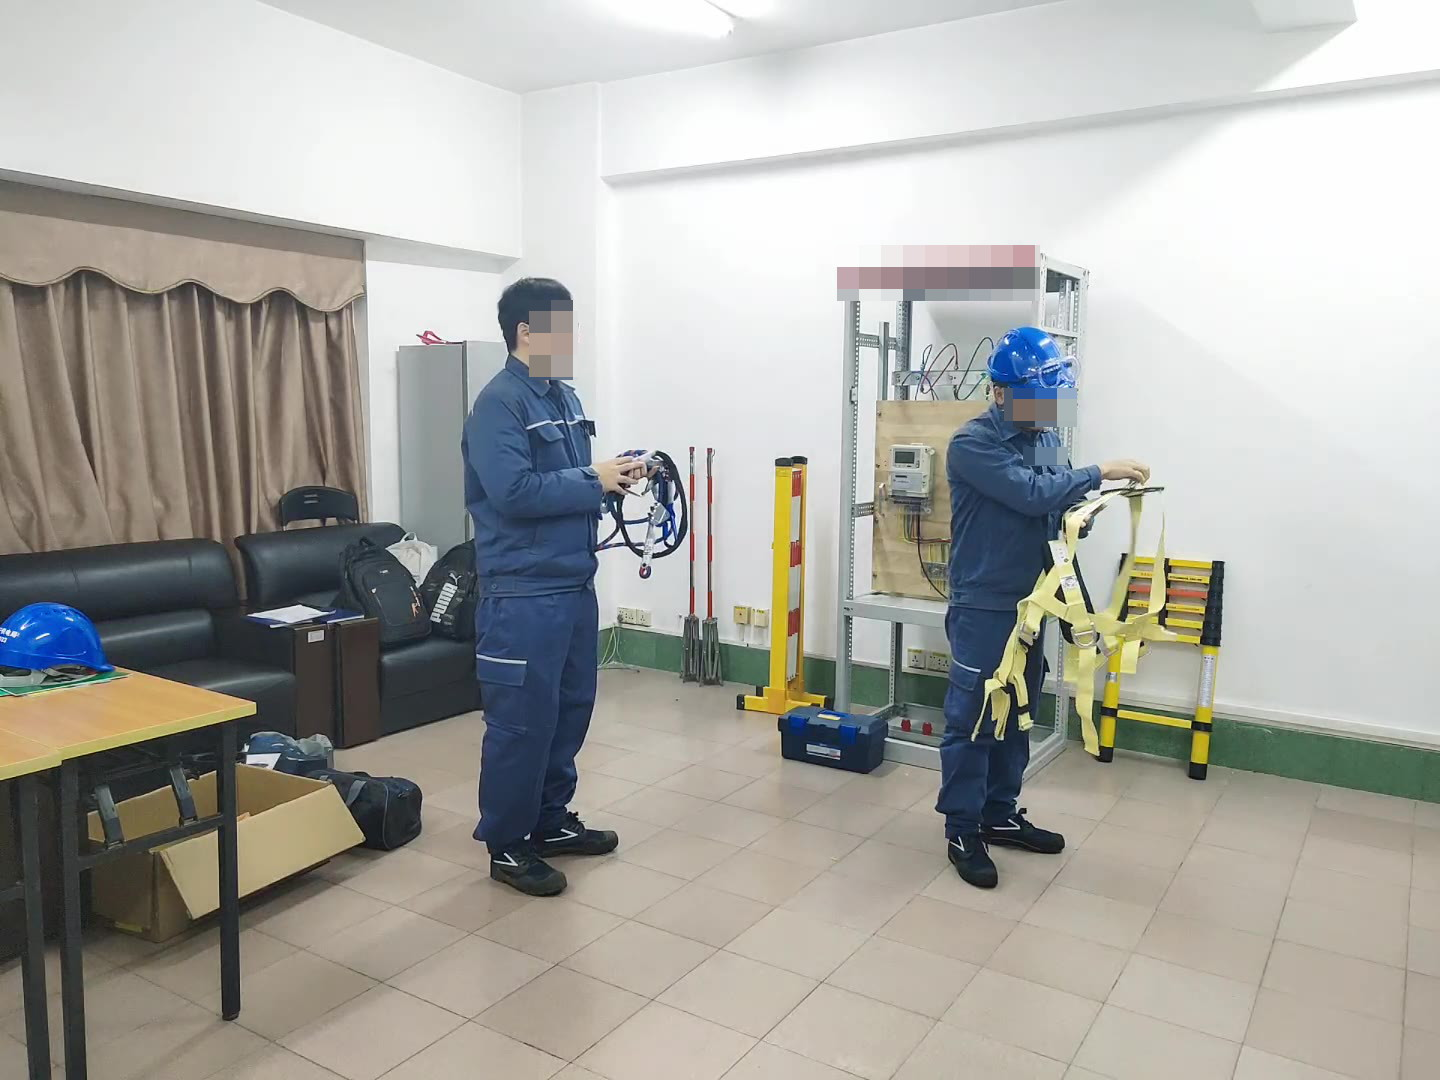downsuit: (472, 604, 602, 841), (934, 612, 1033, 828)
halt: (984, 324, 1073, 427)
hand: (597, 453, 647, 503), (1103, 455, 1155, 486)
inear: (984, 380, 1018, 422)
noear: (509, 315, 553, 362)
person: (456, 275, 618, 884), (927, 321, 1107, 860)
unhalt: (494, 276, 582, 371)
upsuit: (461, 363, 608, 585), (940, 412, 1098, 602)
